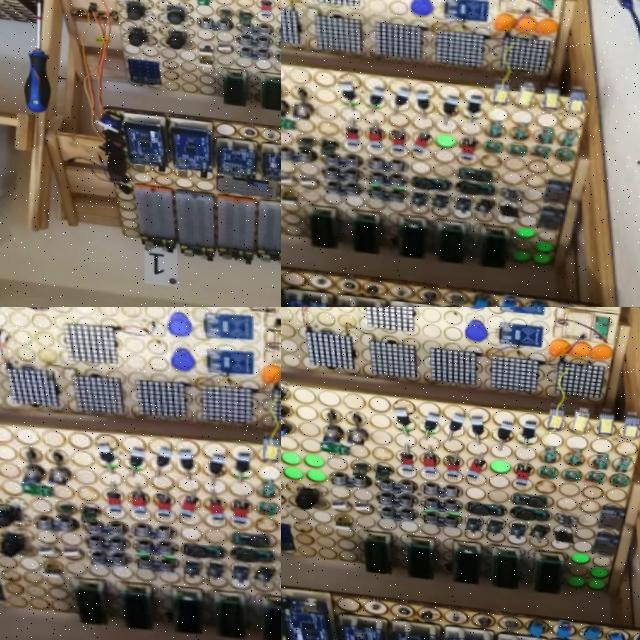Green-circles: (506, 220, 550, 263), (281, 450, 325, 483), (562, 558, 603, 589), (426, 123, 452, 149), (482, 454, 508, 472), (565, 547, 585, 561)
